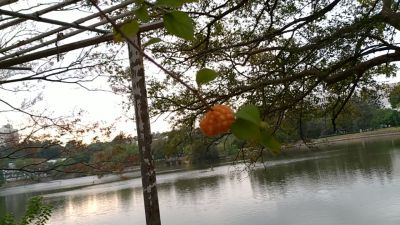eggs: (199, 103, 235, 140)
